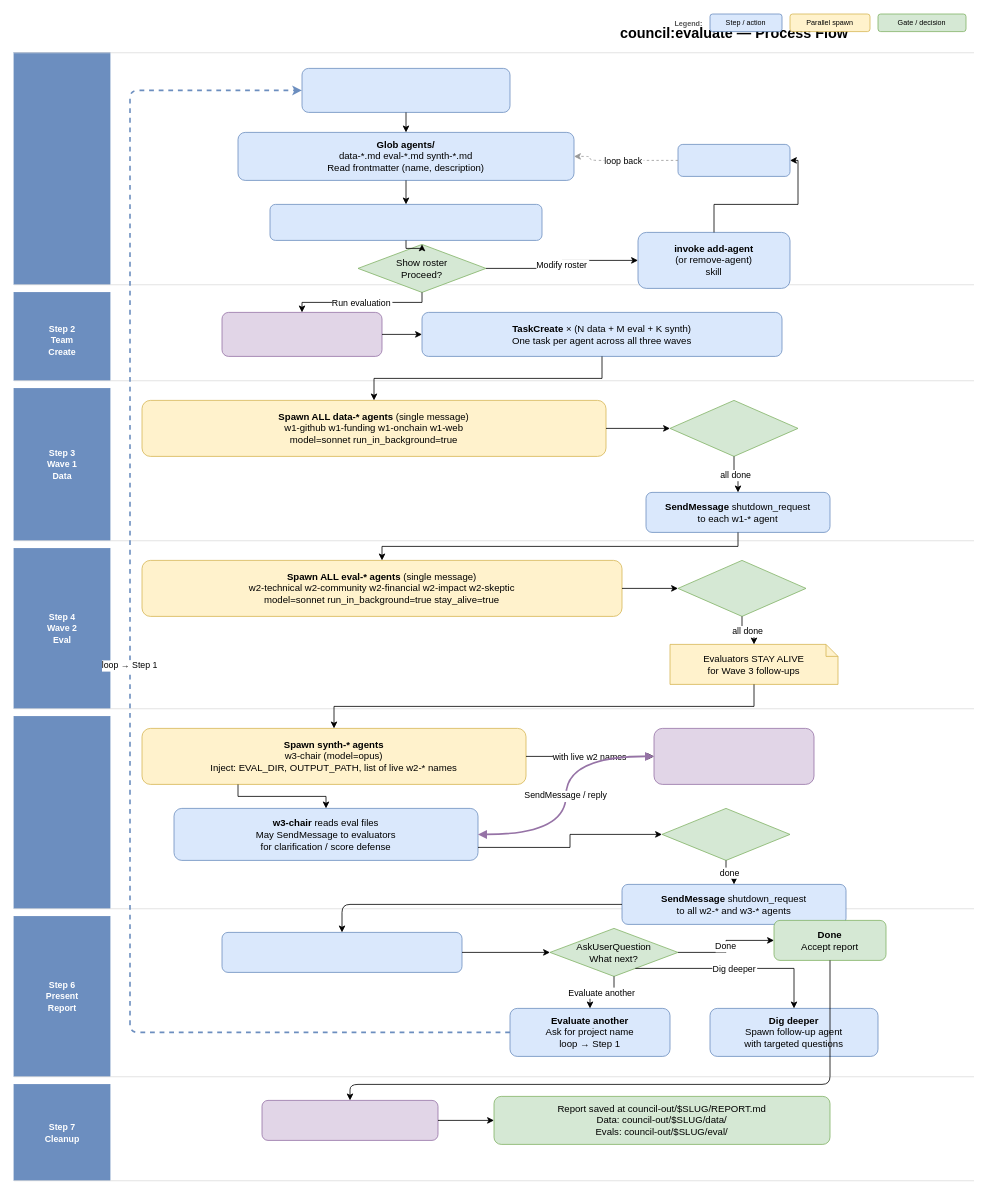
This 988x1195 diagram has some shape labels left out. Each missing label, with the centre of its shape:
mkdir -p council-out/$SLUG/{data,eval}: (405,222)
Parse Input $ARGUMENTS → $PROJECT + $SLUG: (405,90)
Poll TaskList ALL w1 done?: (733,428)
Poll TaskList ALL w2 done?: (741,588)
Poll TaskList w3 done?: (725,834)
re-discover: (733,160)
Read council-out/$SLUG/REPORT.md: (341,952)
Step 1 Parse & Discover: (61,168)
Step 5 Wave 3 Synth: (61,812)
TeamCreate council-$SLUG: (301,334)
TeamDelete council-$SLUG: (349,1120)
w2-* evaluators (still live): (733,756)
